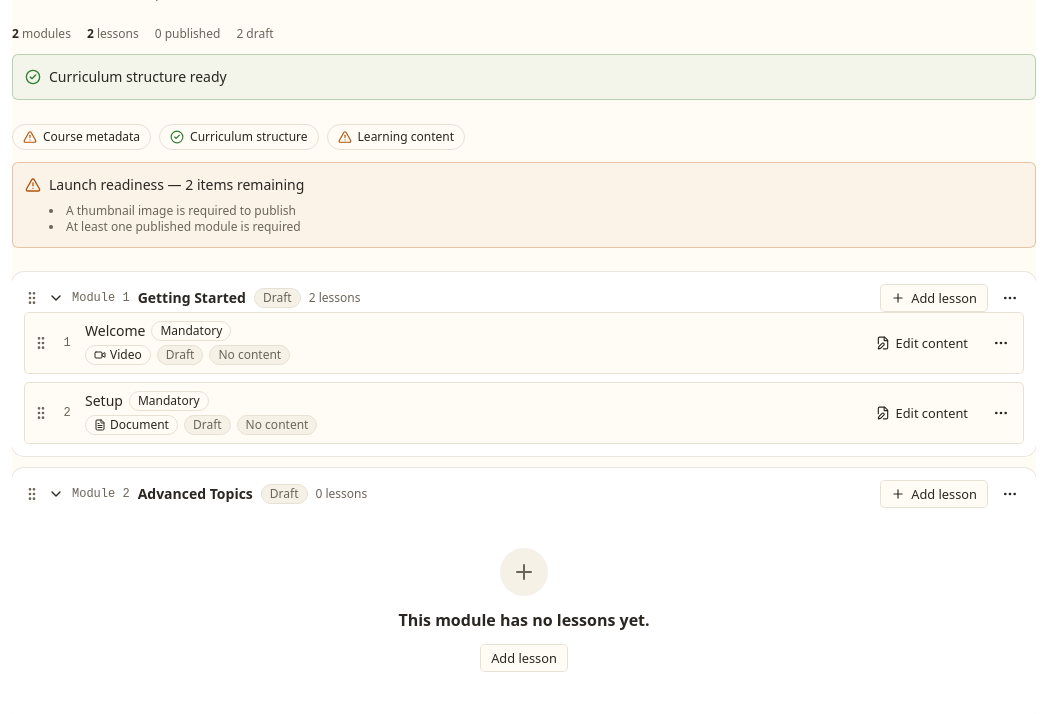
Test case: CourseCurriculumPage › duplicates a module
Expected: the text "Getting Started" is shown, left=138, top=288, right=246, bottom=308
Click the button named "actions for module getting started" at (1010, 298), box left=996, top=284, right=1024, bottom=312
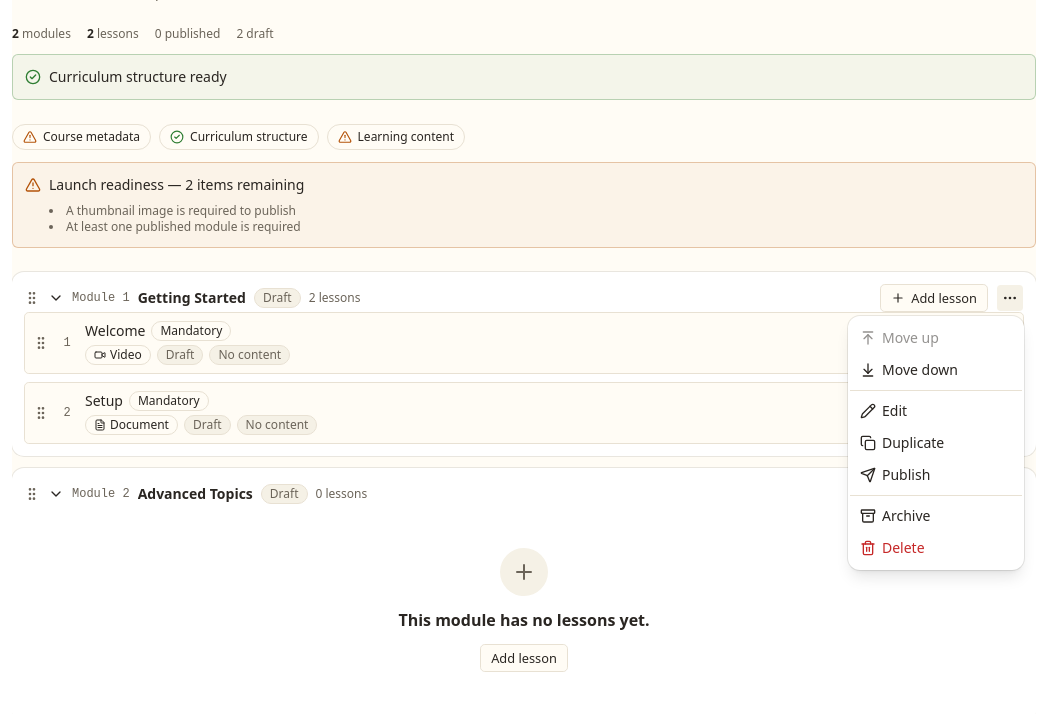
Click the menu item "Duplicate" at (902, 442), box left=860, top=433, right=944, bottom=452
(page scrolled)
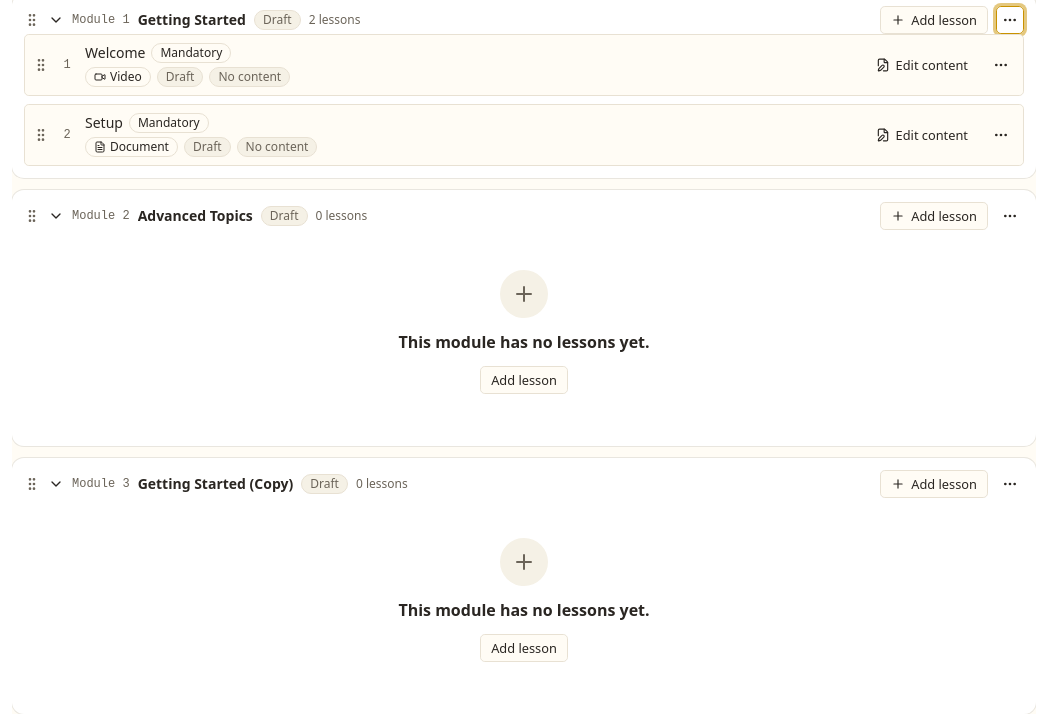
Expected: the text "Getting Started (Copy)" is shown, left=138, top=474, right=293, bottom=494
